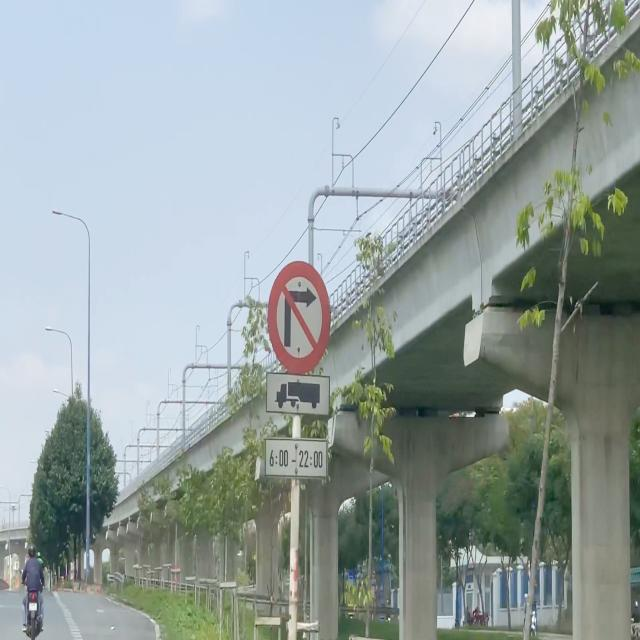Cam re phai: (265, 263, 333, 376)
